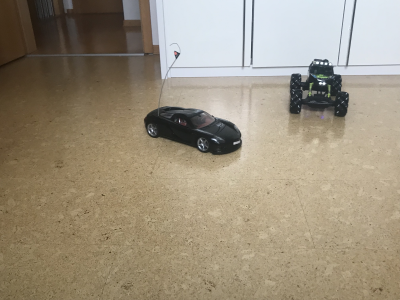remote control car: (285, 56, 351, 117)
